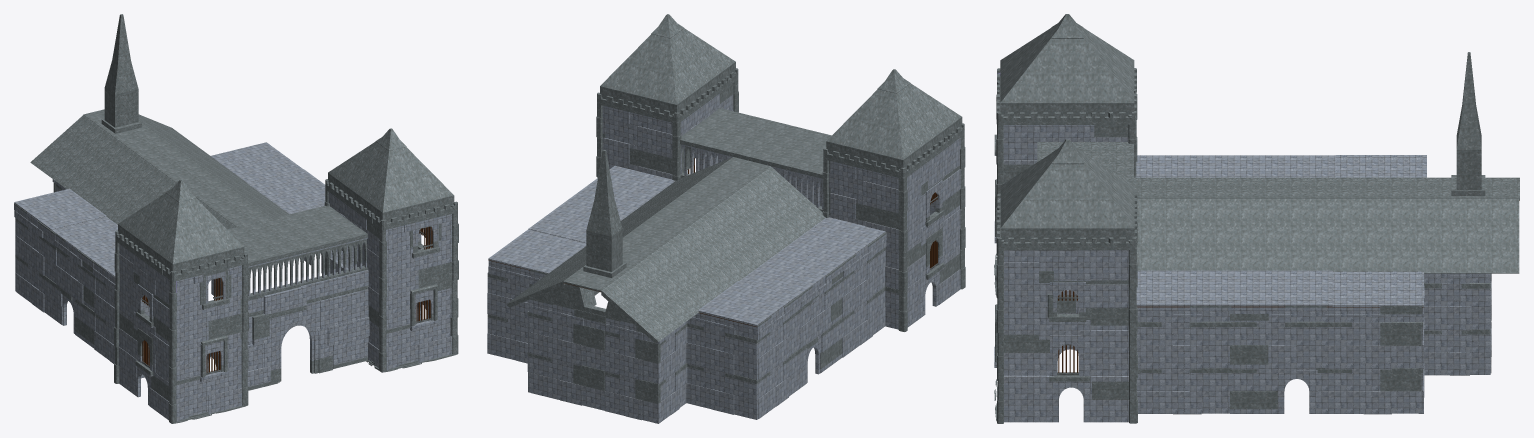
Rendered from Dont use.fbx.
3 views of the same model, side by side, from view 1: azimuth 30°, elevation 25°; view 2: azimuth 150°, elevation 25°; view 3: azimuth 270°, elevation 25° (orthographic). The views are drawn at different scales.
Visible parts, largest first — view 1: mergedBlocks; view 2: mergedBlocks; view 3: mergedBlocks.
Boxes of the visible parts, x1=… form: mergedBlocks: x1=14, y1=14, x2=458, y2=423; mergedBlocks: x1=487, y1=14, x2=965, y2=423; mergedBlocks: x1=994, y1=14, x2=1519, y2=423.
Size of the model in its own units: 162 by 126 by 210.
